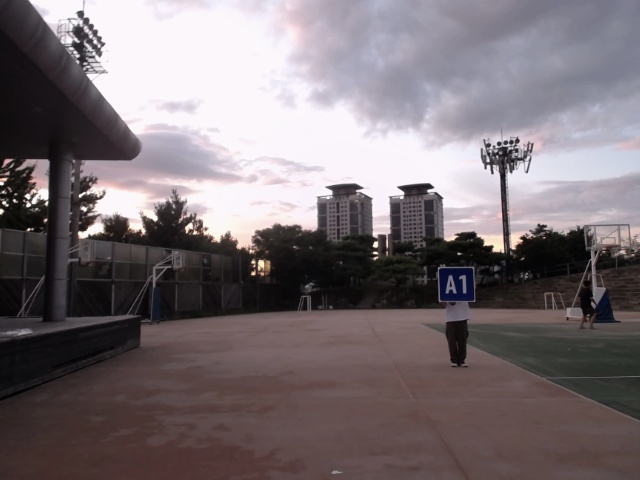delivery_a1: (438, 267, 475, 302)
